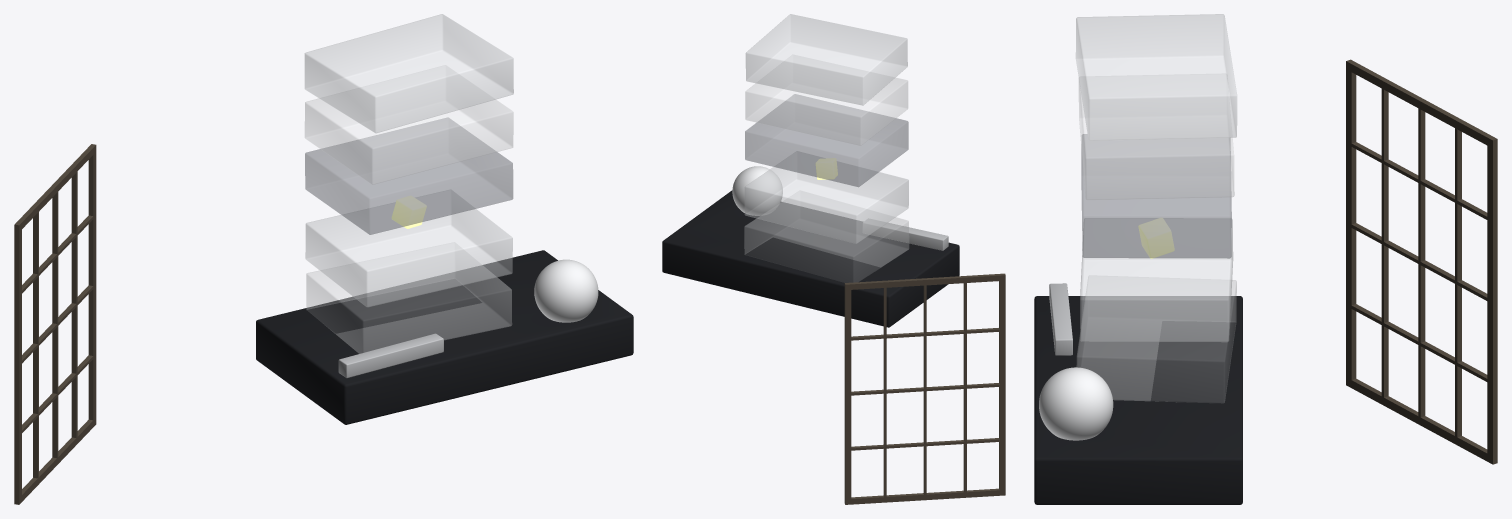
The model's file is strata.glb.
3 renders of one model, left to right at view 1: azimuth 30°, elevation 25°; view 2: azimuth 150°, elevation 25°; view 3: azimuth 270°, elevation 25°, orthographic. The views are drawn at different scales.
Visible parts, largest first — view 1: plinth, strata_3, strata_4, strata_2, strata_1, strata_0, jali_screen, chrome_sphere, counter_bar, cursor_cube; view 2: plinth, strata_4, strata_2, strata_0, strata_3, jali_screen, strata_1, chrome_sphere, counter_bar, cursor_cube; view 3: plinth, jali_screen, strata_4, strata_3, strata_2, strata_1, strata_0, chrome_sphere, counter_bar, cursor_cube.
Part boxes in pixels (bbox=[...]): plinth: bbox=[256, 250, 633, 424]; strata_3: bbox=[305, 65, 513, 184]; strata_4: bbox=[304, 14, 513, 133]; strata_2: bbox=[305, 117, 513, 234]; strata_1: bbox=[305, 189, 512, 307]; strata_0: bbox=[306, 242, 511, 353]; jali_screen: bbox=[14, 144, 96, 504]; chrome_sphere: bbox=[534, 259, 598, 322]; counter_bar: bbox=[338, 333, 443, 377]; cursor_cube: bbox=[391, 195, 426, 228]; plinth: bbox=[662, 190, 959, 327]; strata_4: bbox=[745, 14, 907, 105]; strata_2: bbox=[745, 94, 908, 187]; strata_0: bbox=[744, 191, 908, 282]; strata_3: bbox=[745, 55, 907, 145]; jali_screen: bbox=[844, 273, 1005, 504]; strata_1: bbox=[744, 151, 908, 243]; chrome_sphere: bbox=[732, 166, 782, 215]; counter_bar: bbox=[863, 218, 948, 250]; cursor_cube: bbox=[815, 158, 837, 179]; plinth: bbox=[1034, 296, 1242, 504]; jali_screen: bbox=[1346, 59, 1497, 464]; strata_4: bbox=[1075, 14, 1237, 140]; strata_3: bbox=[1079, 74, 1234, 199]; strata_2: bbox=[1081, 134, 1231, 258]; strata_1: bbox=[1080, 218, 1233, 342]; strata_0: bbox=[1076, 276, 1236, 403]; chrome_sphere: bbox=[1039, 367, 1113, 440]; counter_bar: bbox=[1049, 283, 1072, 355]; cursor_cube: bbox=[1138, 217, 1174, 258].
Size of what is drawn, in the model's own units: 4.34 by 3.73 by 3.11.
